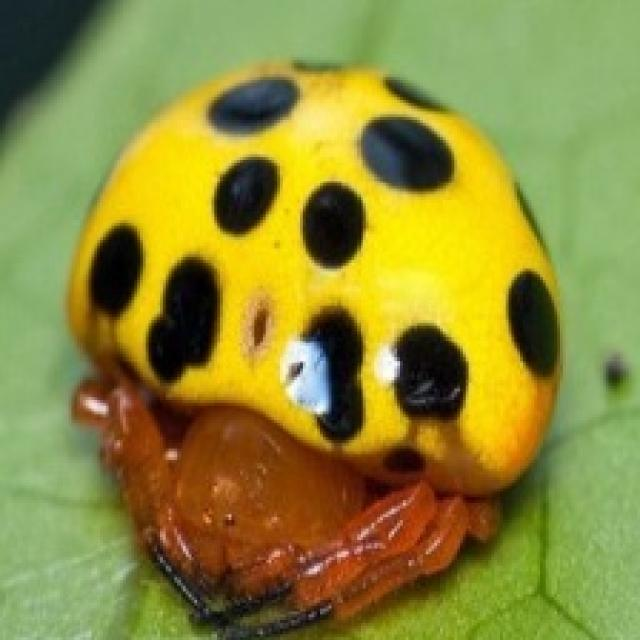Non venomous spider: (70, 50, 573, 612)
